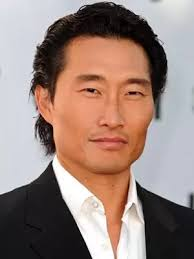asian_male: (49, 27, 153, 167)
